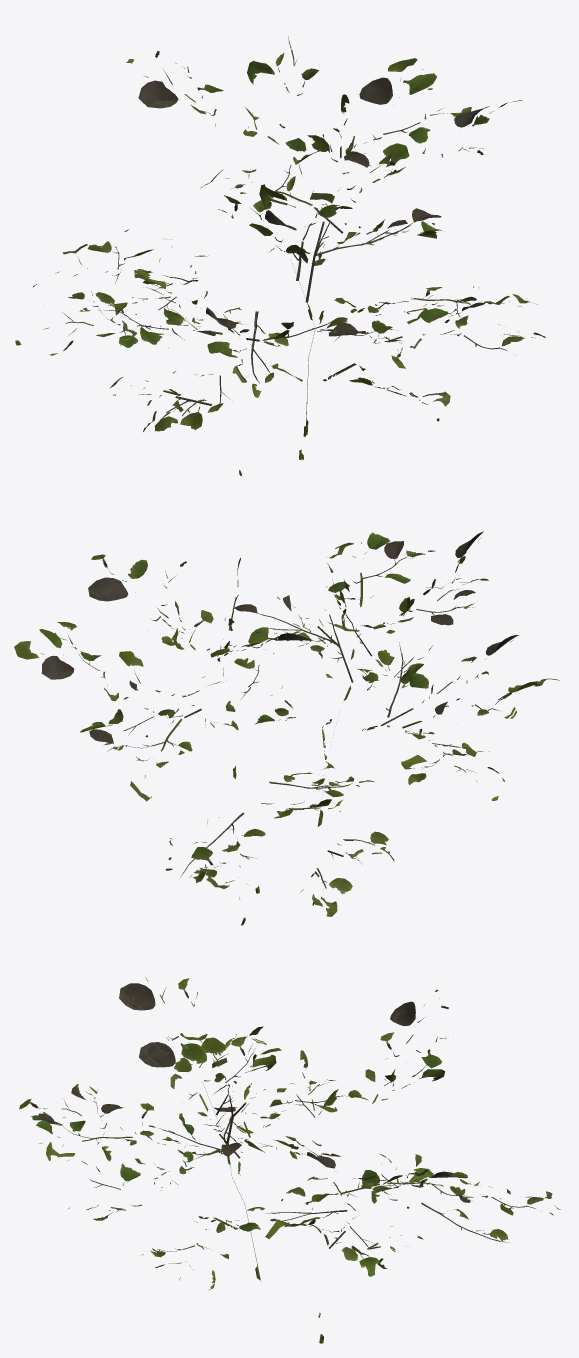
The model's file is SM_BlackAlder_Sapling_05_PP_LOD1.gltf.
3 views of the same model, one above another, from view 1: azimuth 30°, elevation 25°; view 2: azimuth 150°, elevation 25°; view 3: azimuth 270°, elevation 25° (orthographic). The views are drawn at different scales.
Visible parts, largest first — view 1: SM_BlackAlder_Sapling_05_PP; view 2: SM_BlackAlder_Sapling_05_PP; view 3: SM_BlackAlder_Sapling_05_PP.
Part boxes in pixels (x1,y1,x2,y2): SM_BlackAlder_Sapling_05_PP: (15, 36, 545, 475); SM_BlackAlder_Sapling_05_PP: (14, 531, 559, 925); SM_BlackAlder_Sapling_05_PP: (19, 977, 560, 1343).
Size of the model in its own units: 1.36 by 1.03 by 1.6.
1 material, 1 textured.
